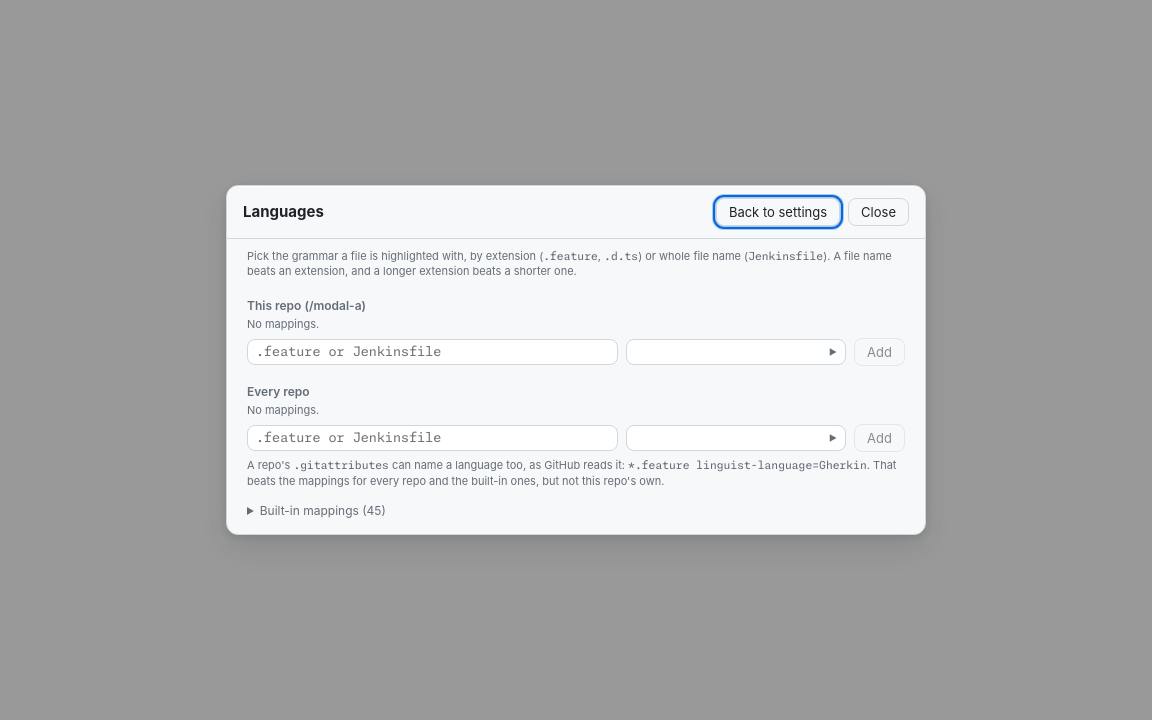
Test case: a mapping added for every repo is stored under its normalized key
In the field named "New every repo pattern": (433, 438) [247,425,618,451], type "*.Steps"
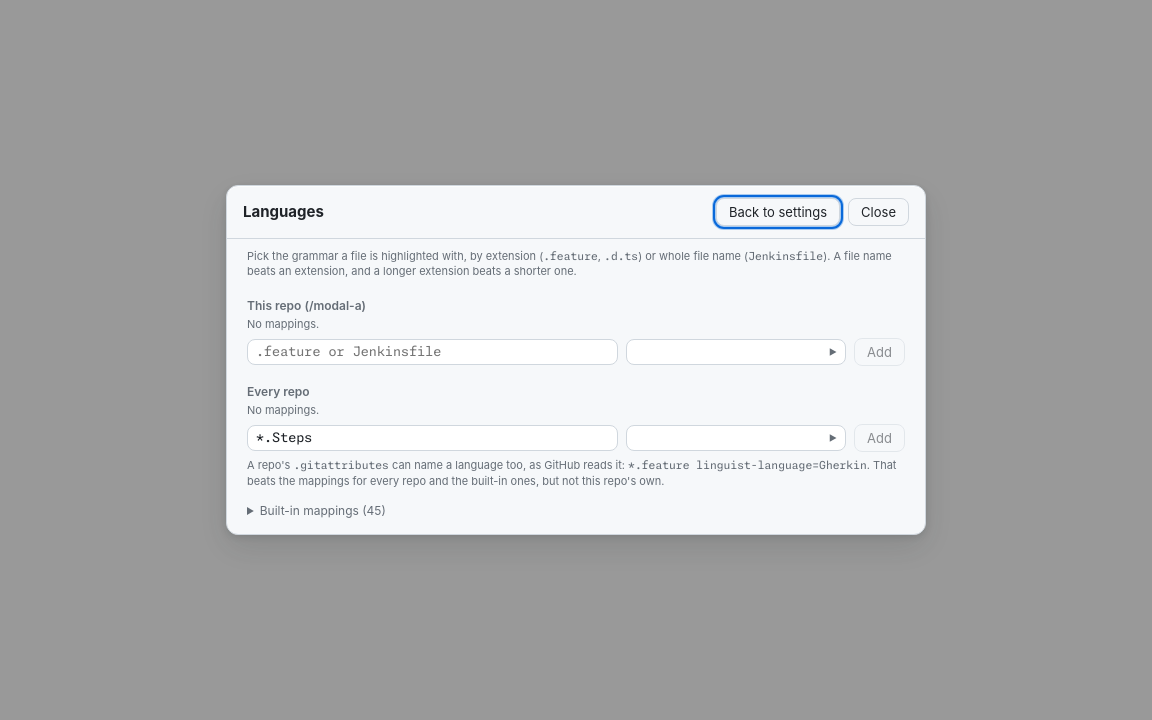
In the dropdown named "New every repo language": (736, 438) [626,425,846,451], type "Gherkin"
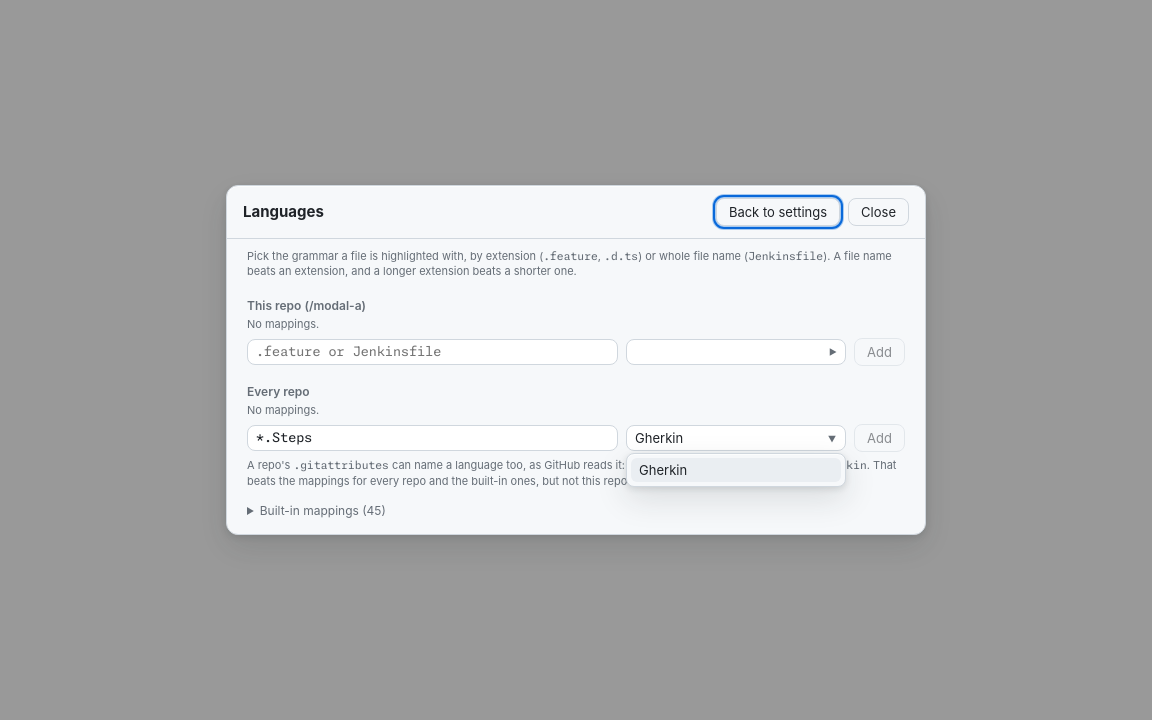
Press the mouse on the option "Gherkin": (736, 470) [631,458,841,482]
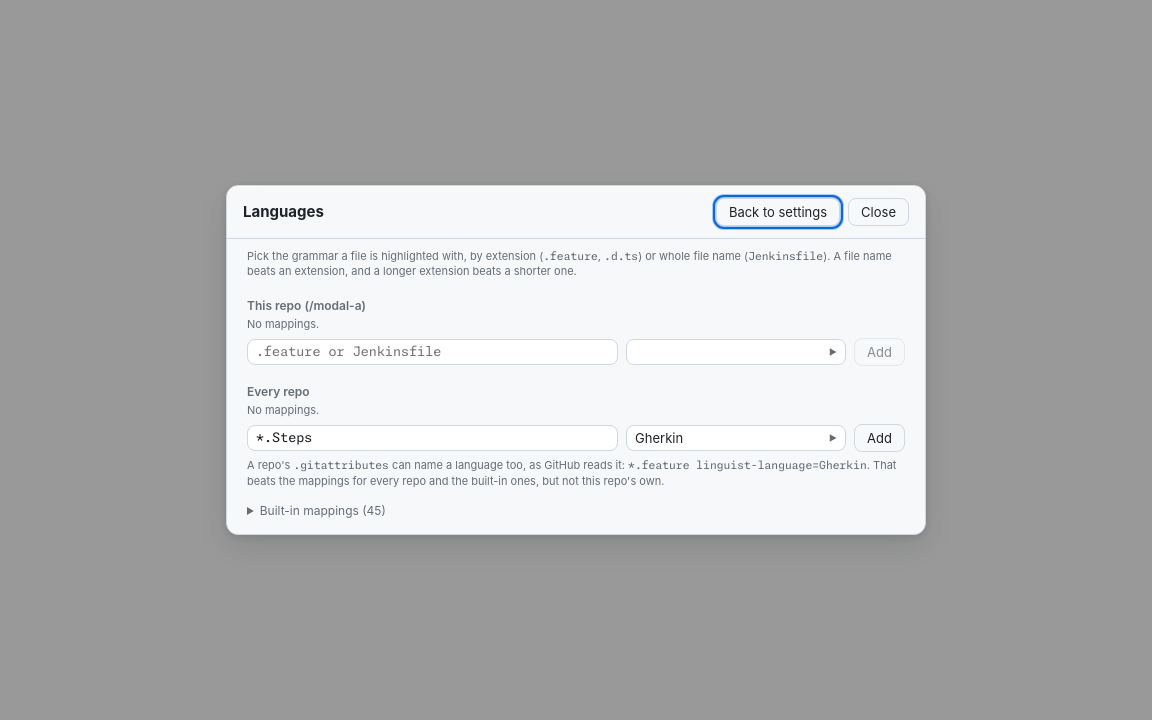
Click the 2nd button "Add": (880, 438) [854,424,905,452]
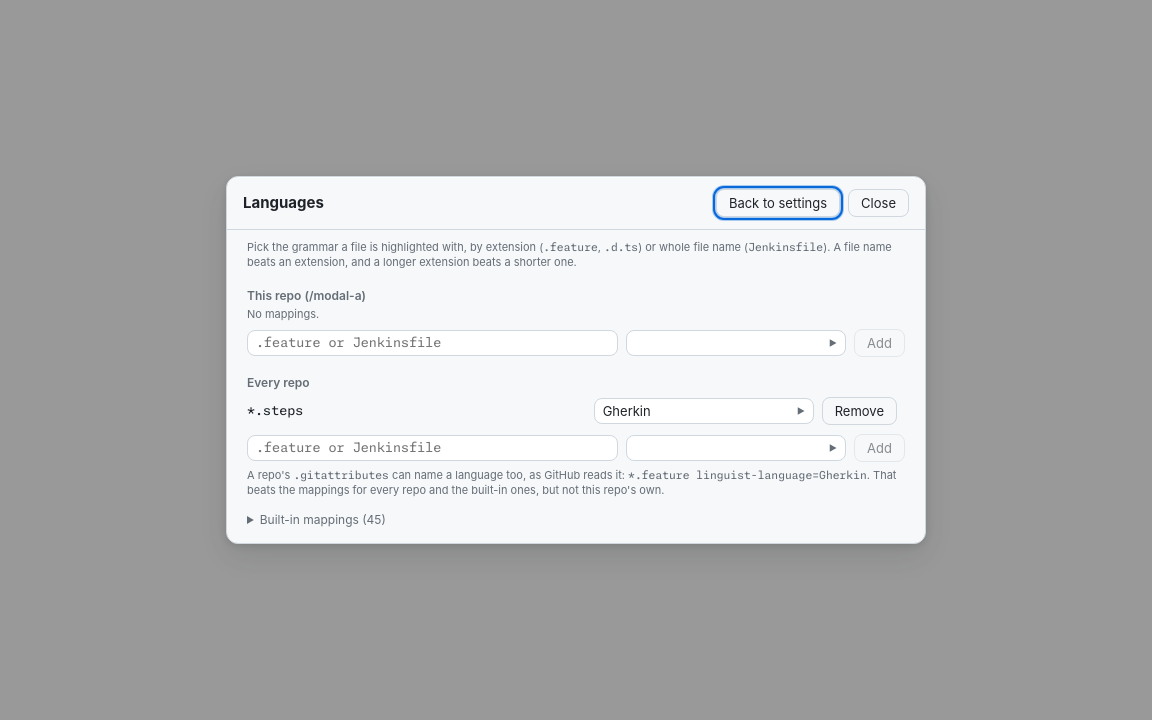
Expected: the text "*.steps" is shown, [247,403,303,418]
